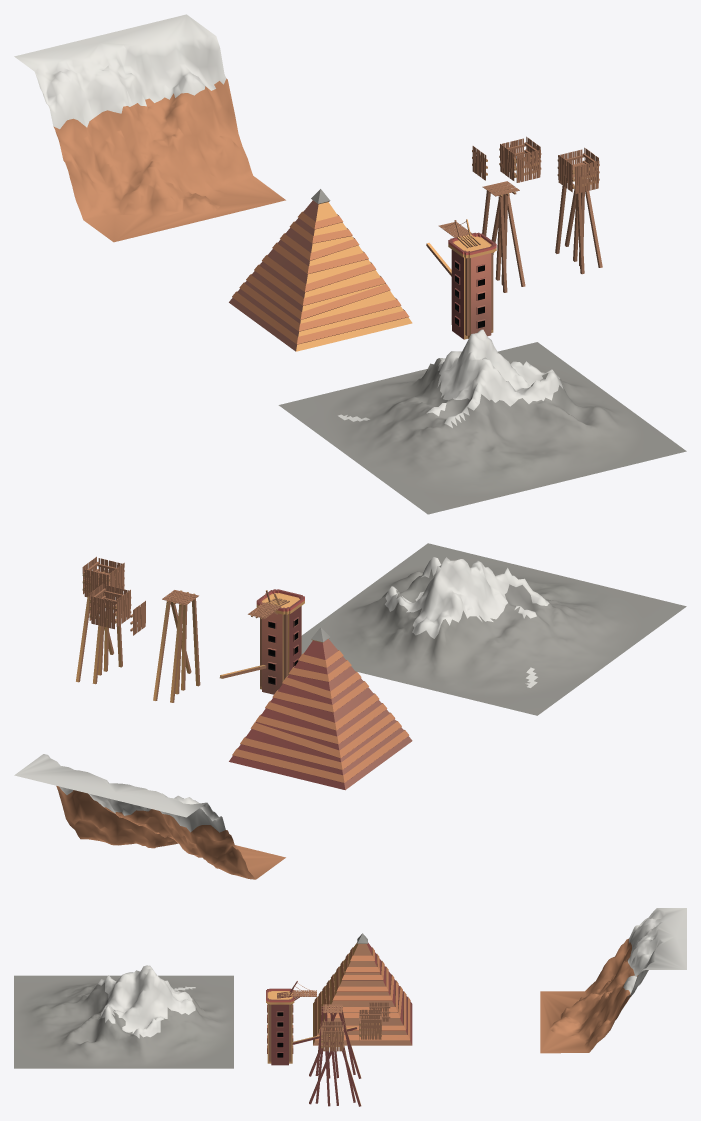
The model's file is AddAssets.fbx.
3 renders of one model, top to bottom at view 1: azimuth 30°, elevation 25°; view 2: azimuth 150°, elevation 25°; view 3: azimuth 270°, elevation 25°, orthographic. The views are drawn at different scales.
Visible parts, largest first — view 1: MOD_mountain, Landscape, MOD_pyramid, MOD_tower, MOD_WoodJuuj, MOD_WoodWatch, MOD_woodCage; view 2: MOD_mountain, MOD_pyramid, Landscape, MOD_tower, MOD_WoodJuuj, MOD_WoodWatch, MOD_woodCage; view 3: MOD_mountain, Landscape, MOD_pyramid, MOD_tower, MOD_WoodJuuj, MOD_WoodWatch, MOD_woodCage, MOD_bridgeWood.
Boxes of the visible parts, box(x1,y1,x2,y2) form: MOD_mountain: box(278, 329, 686, 514); Landscape: box(14, 14, 285, 242); MOD_pyramid: box(229, 189, 412, 351); MOD_tower: box(448, 232, 496, 339); MOD_WoodJuuj: box(555, 147, 602, 274); MOD_WoodWatch: box(482, 181, 525, 292); MOD_woodCage: box(499, 136, 541, 182); MOD_mountain: box(301, 543, 686, 715); MOD_pyramid: box(229, 627, 412, 790); Landscape: box(14, 754, 285, 879); MOD_tower: box(256, 589, 304, 694); MOD_WoodJuuj: box(76, 556, 124, 684); MOD_WoodWatch: box(153, 590, 200, 702); MOD_woodCage: box(89, 584, 131, 629); MOD_mountain: box(14, 965, 233, 1068); Landscape: box(540, 908, 686, 1053); MOD_pyramid: box(313, 933, 412, 1045); MOD_tower: box(266, 988, 294, 1065); MOD_WoodJuuj: box(309, 1021, 361, 1106); MOD_WoodWatch: box(309, 1004, 361, 1078); MOD_woodCage: box(359, 1009, 381, 1040); MOD_bridgeWood: box(277, 981, 316, 1000).
Bounding box in the file's own units: 5271 × 1661 × 10964.
